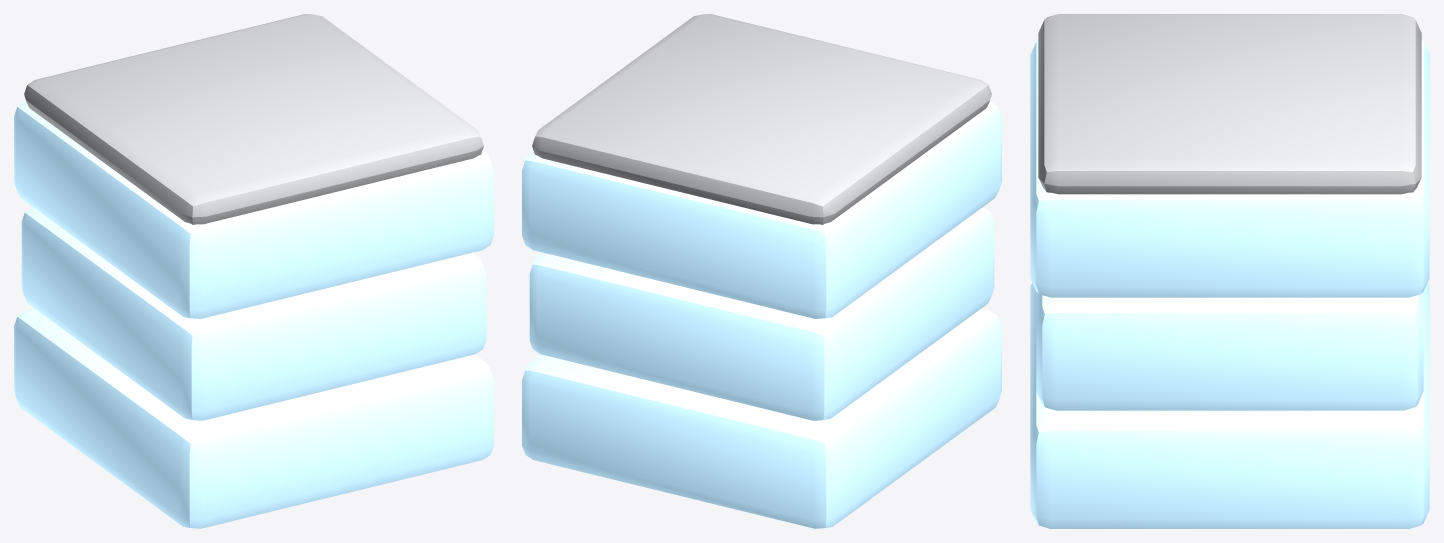
File: wall_ice.glb
The picture shows the model from 3 angles, left to right: view 1: azimuth 30°, elevation 25°; view 2: azimuth 150°, elevation 25°; view 3: azimuth 270°, elevation 25°; orthographic projection. The views are drawn at different scales.
Visible parts, largest first — view 1: wall_ice; view 2: wall_ice; view 3: wall_ice.
Boxes of the visible parts, left/top/right/bottom form: wall_ice: left=14, top=14, right=493, bottom=528; wall_ice: left=522, top=14, right=1001, bottom=528; wall_ice: left=1030, top=14, right=1429, bottom=528.
Bounding box in the file's own units: 1 × 1.01 × 1.
